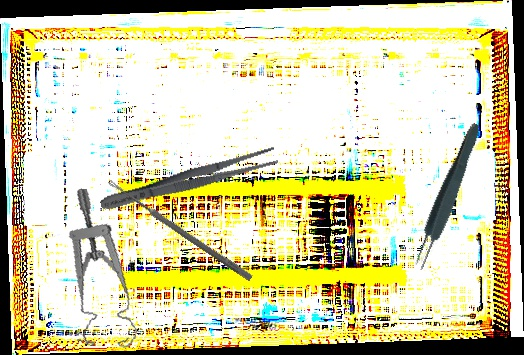Dressing Forceps: (97, 143, 280, 217)
Speculum: (46, 187, 164, 355)
Surgical Spoon: (106, 178, 254, 282)
Tissue Forceps: (408, 120, 486, 273)
